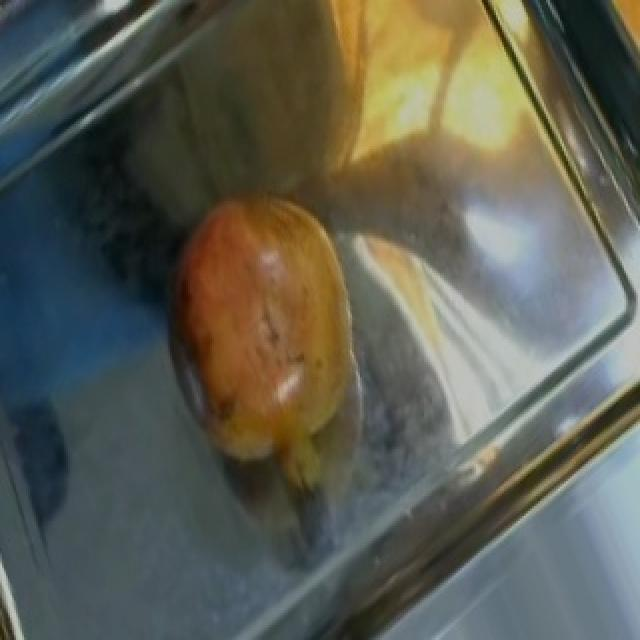fruit: (140, 164, 384, 414)
